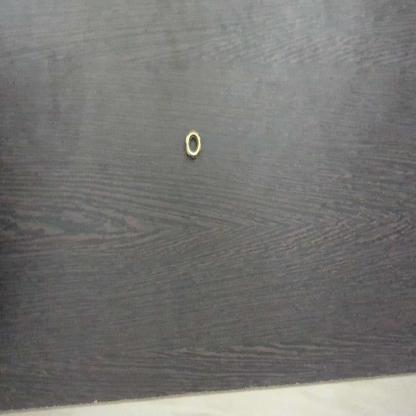NUTS: (184, 126, 205, 171)
